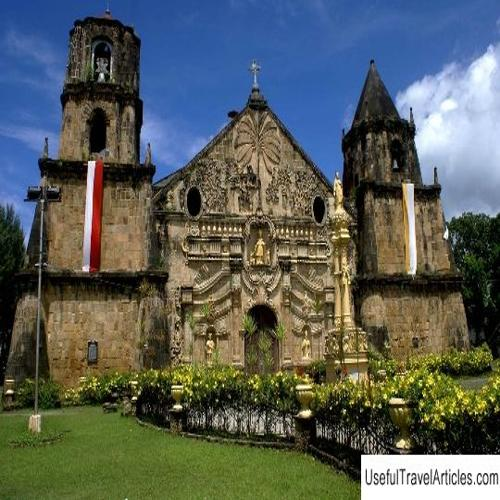Miagao Church: (28, 10, 474, 387)
